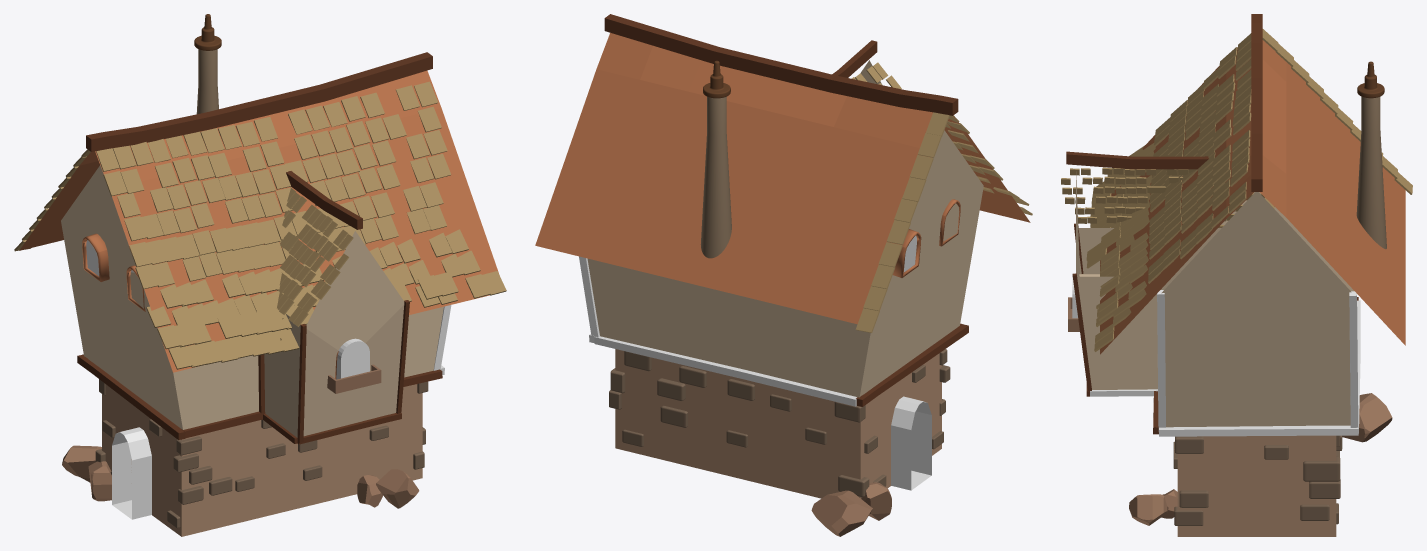
Rendered from ForestHouse.fbx.
3 renders of one model, left to right at view 1: azimuth 30°, elevation 25°; view 2: azimuth 150°, elevation 25°; view 3: azimuth 270°, elevation 25°, orthographic. The views are drawn at different scales.
Visible parts, largest first — view 1: Plane.002, Plane, Plane.001, Plane.194, Plane.005, Plane.026, Plane.187, Circle, Plane.198, Plane.186, Plane.315, Sphere.001 (+9 smaller); view 2: Plane.002, Plane.001, Plane, Plane.005, Circle, Plane.026, Plane.185, Sphere.009, Plane.187, Sphere.008, Plane.182, Plane.198 (+2 smaller); view 3: Plane.001, Plane.002, Plane, Plane.194, Circle, Plane.005, Plane.184, Plane.198, Sphere.009, Plane.182, Plane.183, Sphere.001 (+9 smaller).
Part boxes in pixels (x1=…): Plane.002: x1=19, y1=70, x2=499, y2=372; Plane: x1=102, y1=384, x2=422, y2=536; Plane.001: x1=61, y1=165, x2=443, y2=429; Plane.194: x1=264, y1=231, x2=404, y2=437; Plane.005: x1=86, y1=52, x2=432, y2=151; Plane.026: x1=112, y1=427, x2=151, y2=519; Plane.187: x1=77, y1=354, x2=185, y2=439; Circle: x1=196, y1=49, x2=218, y2=114; Plane.198: x1=286, y1=171, x2=362, y2=229; Plane.186: x1=181, y1=369, x2=442, y2=438; Plane.315: x1=336, y1=338, x2=369, y2=379; Sphere.001: x1=376, y1=469, x2=419, y2=508; Plane.002: x1=535, y1=33, x2=1030, y2=324; Plane.001: x1=587, y1=130, x2=983, y2=397; Plane: x1=615, y1=349, x2=941, y2=498; Plane.005: x1=604, y1=14, x2=958, y2=115; Circle: x1=700, y1=96, x2=731, y2=258; Plane.026: x1=891, y1=396, x2=931, y2=490; Plane.185: x1=594, y1=336, x2=856, y2=406; Sphere.009: x1=811, y1=490, x2=872, y2=536; Plane.187: x1=856, y1=324, x2=968, y2=406; Sphere.008: x1=861, y1=482, x2=891, y2=520; Plane.182: x1=579, y1=256, x2=599, y2=337; Plane.198: x1=832, y1=40, x2=877, y2=77; Plane.001: x1=1161, y1=192, x2=1354, y2=427; Plane.002: x1=1100, y1=40, x2=1405, y2=354; Plane: x1=1177, y1=435, x2=1336, y2=536; Plane.194: x1=1076, y1=171, x2=1221, y2=389; Circle: x1=1356, y1=96, x2=1386, y2=249; Plane.005: x1=1251, y1=14, x2=1262, y2=191; Plane.184: x1=1159, y1=425, x2=1358, y2=436; Plane.198: x1=1066, y1=151, x2=1208, y2=169; Sphere.009: x1=1342, y1=393, x2=1392, y2=442; Plane.182: x1=1349, y1=291, x2=1358, y2=427; Plane.183: x1=1157, y1=290, x2=1165, y2=431; Sphere.001: x1=1129, y1=494, x2=1168, y2=525.
Bounding box in the file's own units: 4193 × 5117 × 3769.
